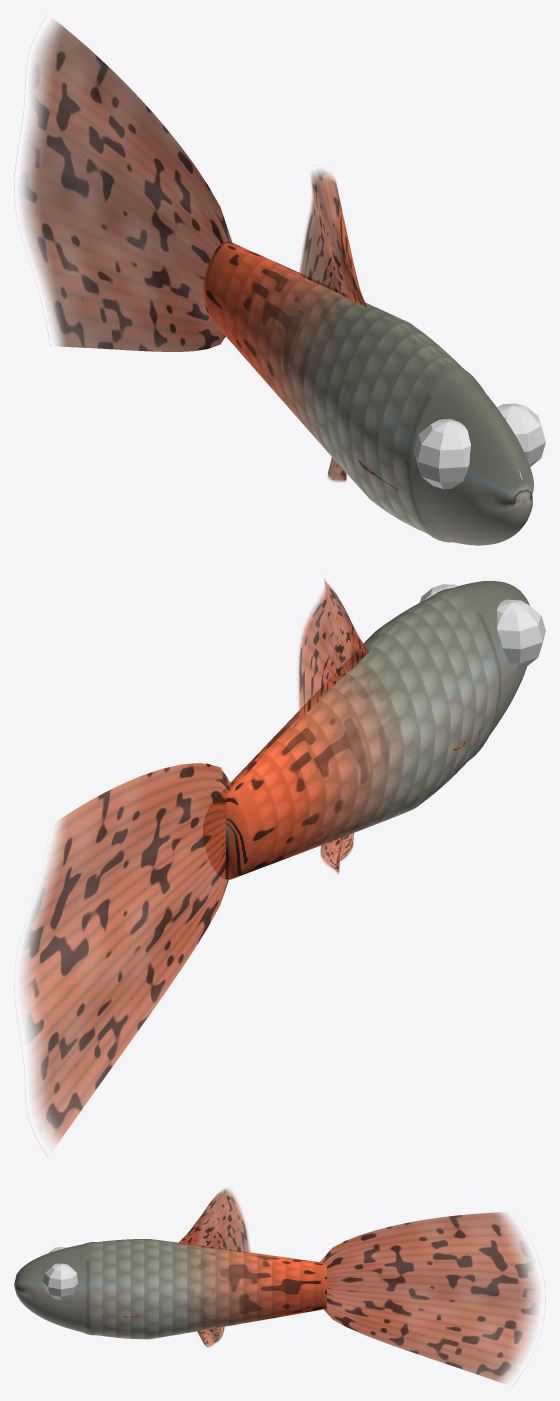
The model's file is guppy-0.glb.
The picture shows the model from 3 angles, top to bottom: view 1: azimuth 30°, elevation 25°; view 2: azimuth 150°, elevation 25°; view 3: azimuth 270°, elevation 25°; orthographic projection. The views are drawn at different scales.
Parts seen in each view (by area): view 1: Fins, Body, EyeL, EyeR; view 2: Fins, Body, EyeL; view 3: Fins, Body, EyeR.
Part boxes in pixels (x1,y1,x2,y2): Fins: (14,21,367,481); Body: (203,241,533,545); EyeL: (414,419,470,489); EyeR: (497,403,545,466); Fins: (14,579,369,1156); Body: (203,580,529,879); EyeL: (497,599,545,669); Fins: (178,1189,545,1383); Body: (14,1239,326,1339); EyeR: (42,1263,77,1299).
Size of the model in its own units: 0.0866 by 0.2524 by 0.6092.
Materials: 2 (2 with a texture image).
